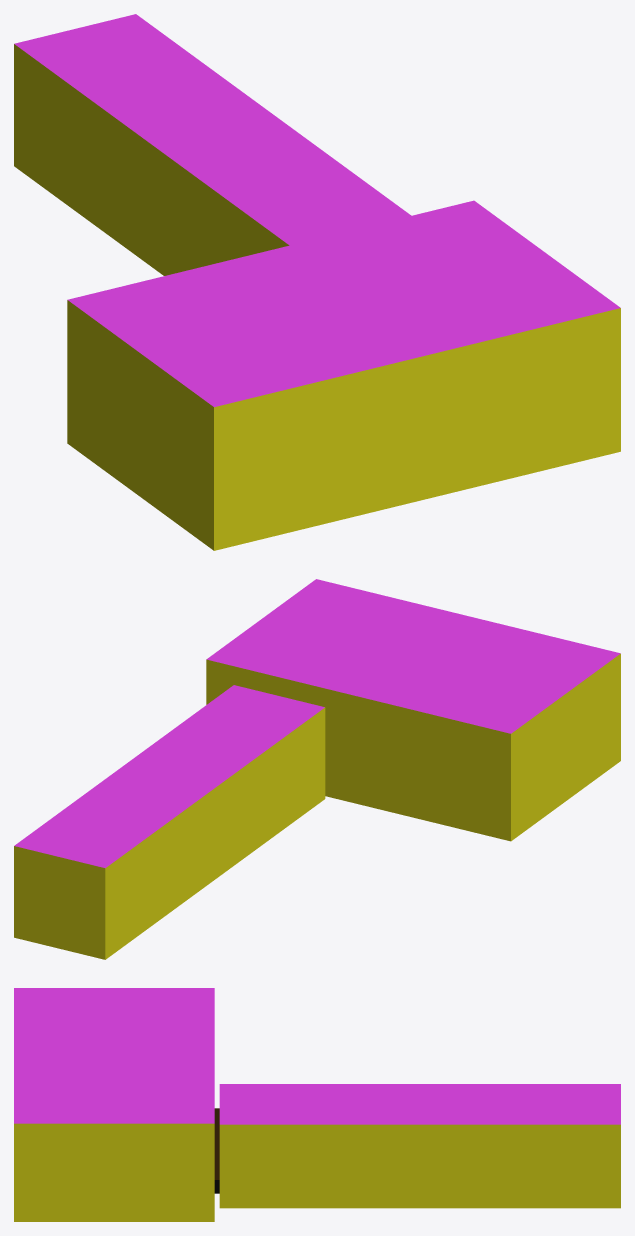
Rendered from Laboratory Grounds.fbx.
3 views of the same model, one above another, from view 1: azimuth 30°, elevation 25°; view 2: azimuth 150°, elevation 25°; view 3: azimuth 270°, elevation 25° (orthographic). The views are drawn at different scales.
Visible parts, largest first — view 1: Level 0 Layout; view 2: Level 0 Layout; view 3: Level 0 Layout.
Boxes of the visible parts, x1,y1,x2,y2 form: Level 0 Layout: [14, 14, 620, 550]; Level 0 Layout: [14, 579, 620, 959]; Level 0 Layout: [14, 988, 620, 1221].
Bounding box in the file's own units: 800 × 270 × 1513.
